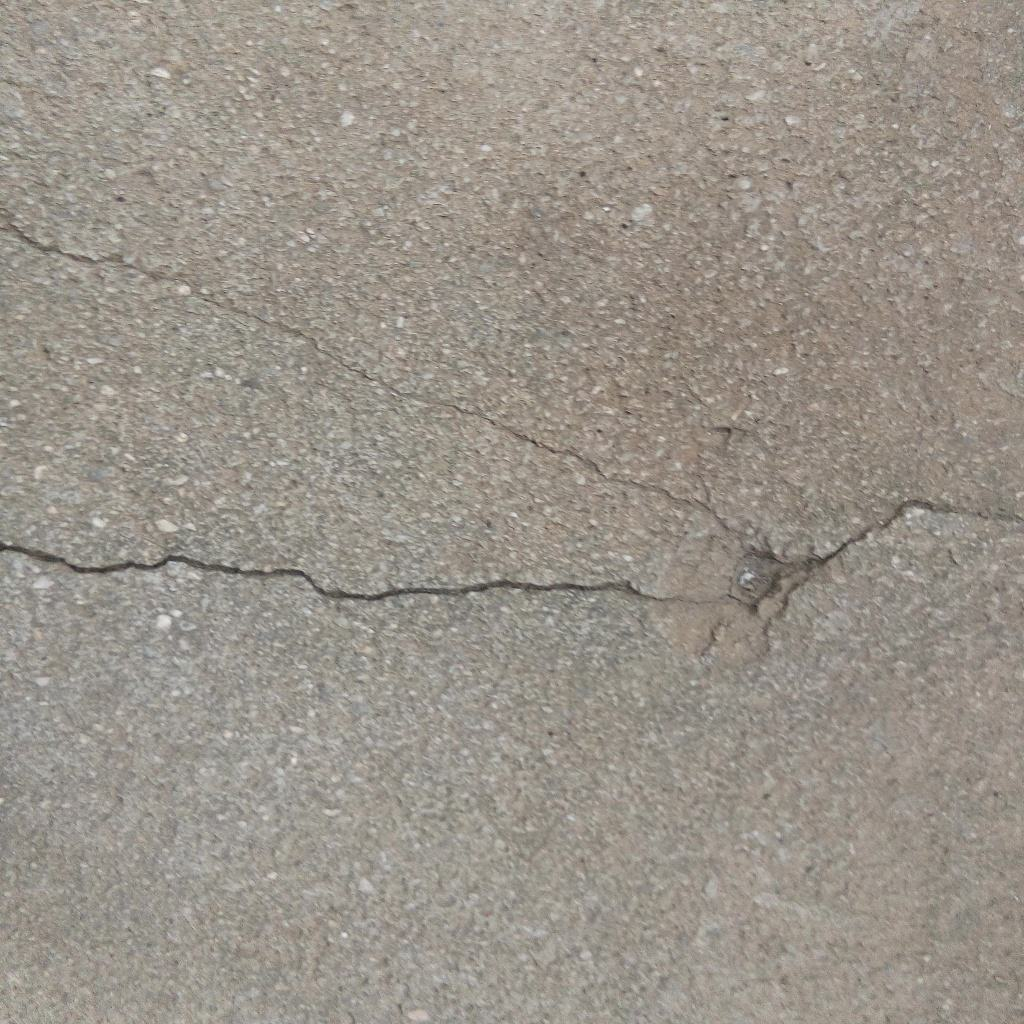Crack: (1, 218, 730, 543), (1, 543, 730, 606), (818, 497, 1024, 566)
Spalling: (652, 521, 818, 667)
